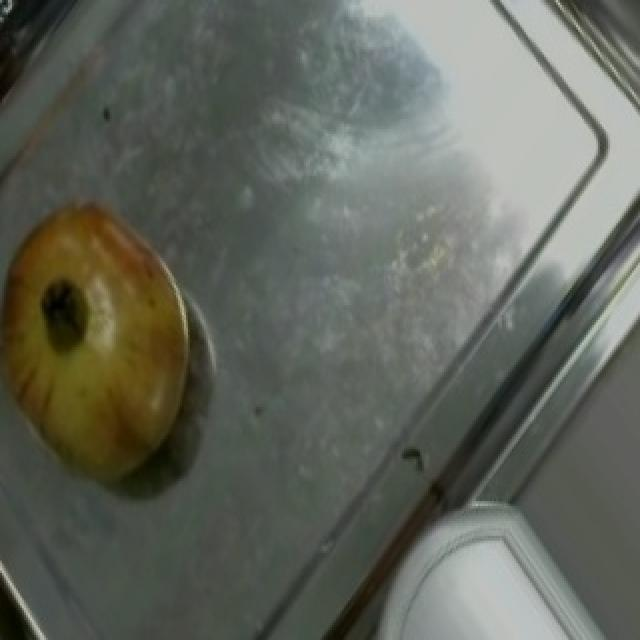fruit: (0, 171, 222, 469)
